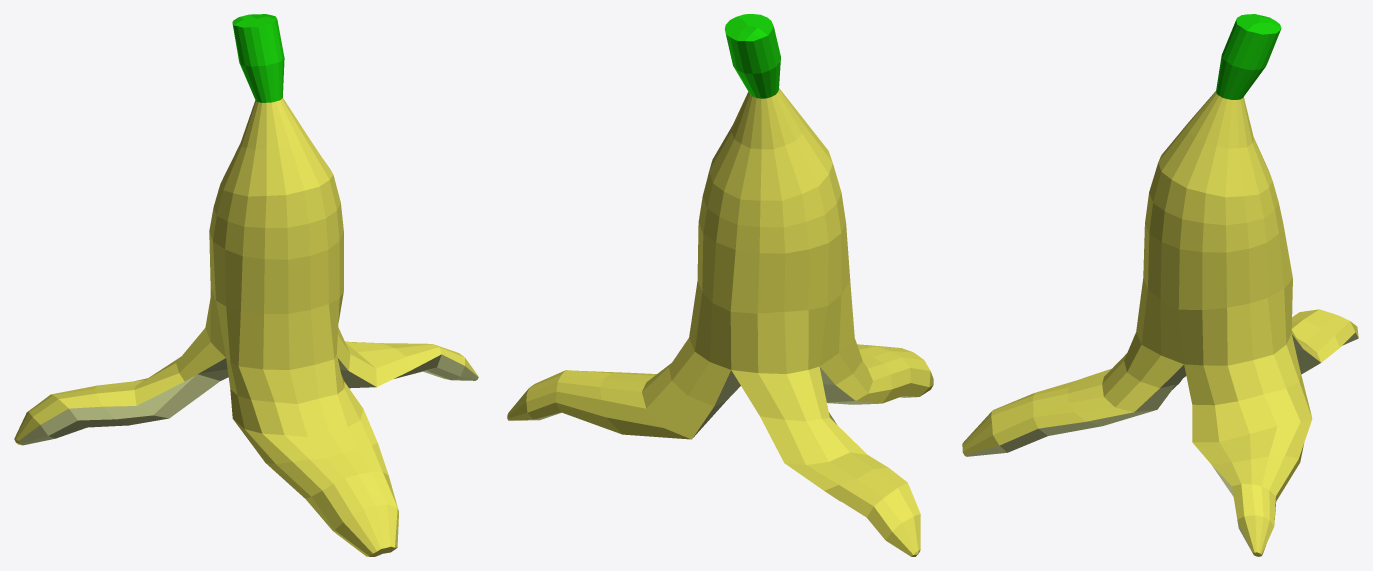
Rendered from KULIT PISANG.fbx.
The picture shows the model from 3 angles, left to right: view 1: azimuth 30°, elevation 25°; view 2: azimuth 150°, elevation 25°; view 3: azimuth 270°, elevation 25°; orthographic projection. The views are drawn at different scales.
Visible parts, largest first — view 1: Cube; view 2: Cube; view 3: Cube.
Boxes of the visible parts, x1,y1,x2,y2 form: Cube: [14, 14, 478, 556]; Cube: [507, 14, 933, 556]; Cube: [962, 14, 1358, 556].
Size of the model in its own units: 564 by 556 by 451.
